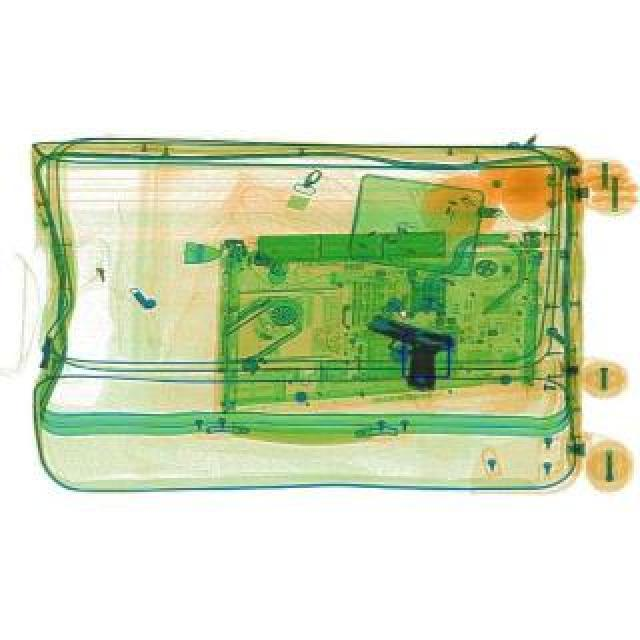gun: (352, 312, 460, 398)
